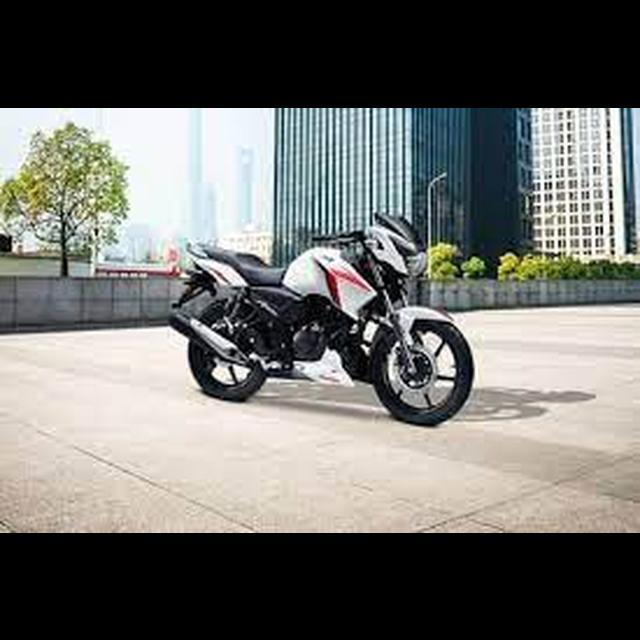motorcycle: (161, 203, 480, 431)
